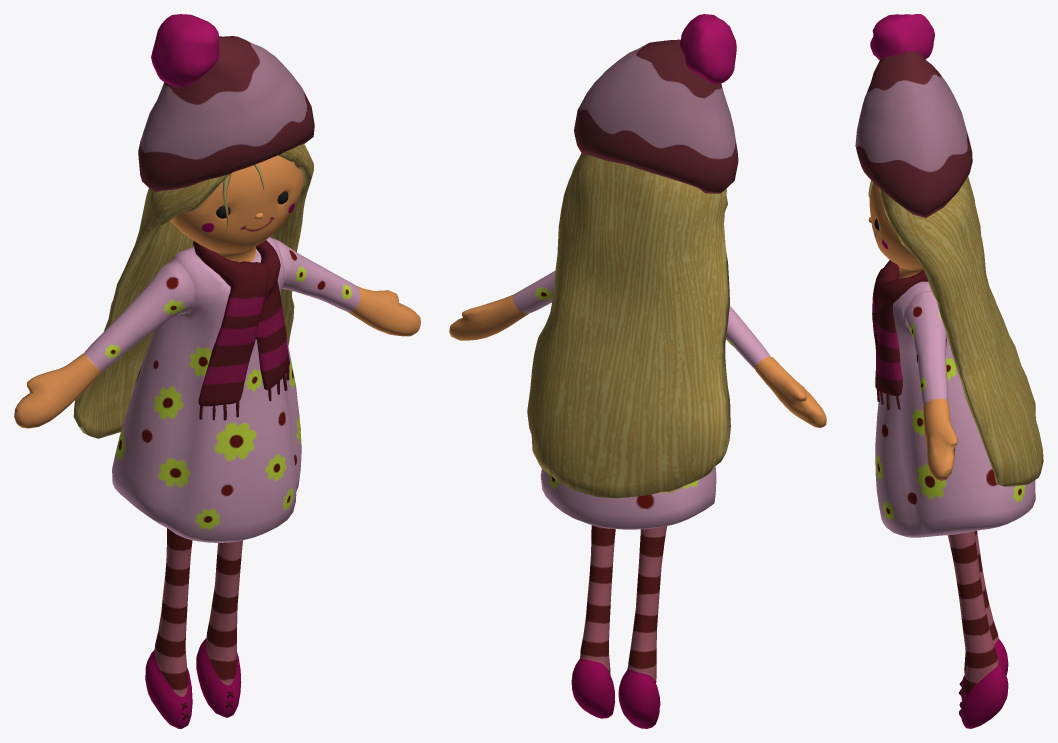
The model's file is tfgzheat.glb.
The picture shows the model from 3 angles, left to right: view 1: azimuth 30°, elevation 25°; view 2: azimuth 150°, elevation 25°; view 3: azimuth 270°, elevation 25°; orthographic projection. The views are drawn at different scales.
Parts seen in each view (by area): view 1: node_id60; view 2: node_id60; view 3: node_id60.
Boxes of the visible parts, x1,y1,x2,y2 form: node_id60: (14, 14, 420, 728); node_id60: (449, 14, 826, 728); node_id60: (855, 14, 1043, 728).
Bounding box in the file's own units: 0.2855 × 0.5008 × 0.1256.
Materials: 1 (1 with a texture image).
